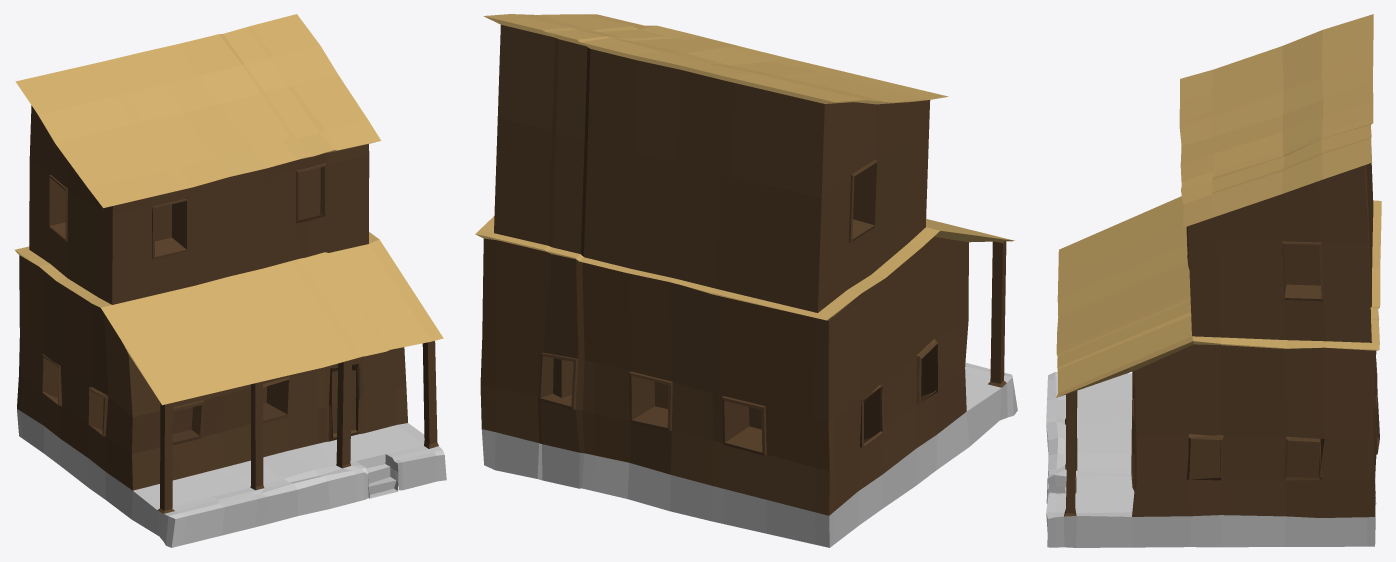
The model's file is House2lvls.fbx.
The picture shows the model from 3 angles, left to right: view 1: azimuth 30°, elevation 25°; view 2: azimuth 150°, elevation 25°; view 3: azimuth 270°, elevation 25°; orthographic projection. The views are drawn at different scales.
Parts seen in each view (by area): view 1: Cube.003; view 2: Cube.003; view 3: Cube.003.
Boxes of the visible parts, x1,y1,x2,y2 form: Cube.003: (14, 14, 446, 547); Cube.003: (475, 14, 1017, 547); Cube.003: (1046, 14, 1381, 547).
Bounding box in the file's own units: 903 × 1074 × 843.
